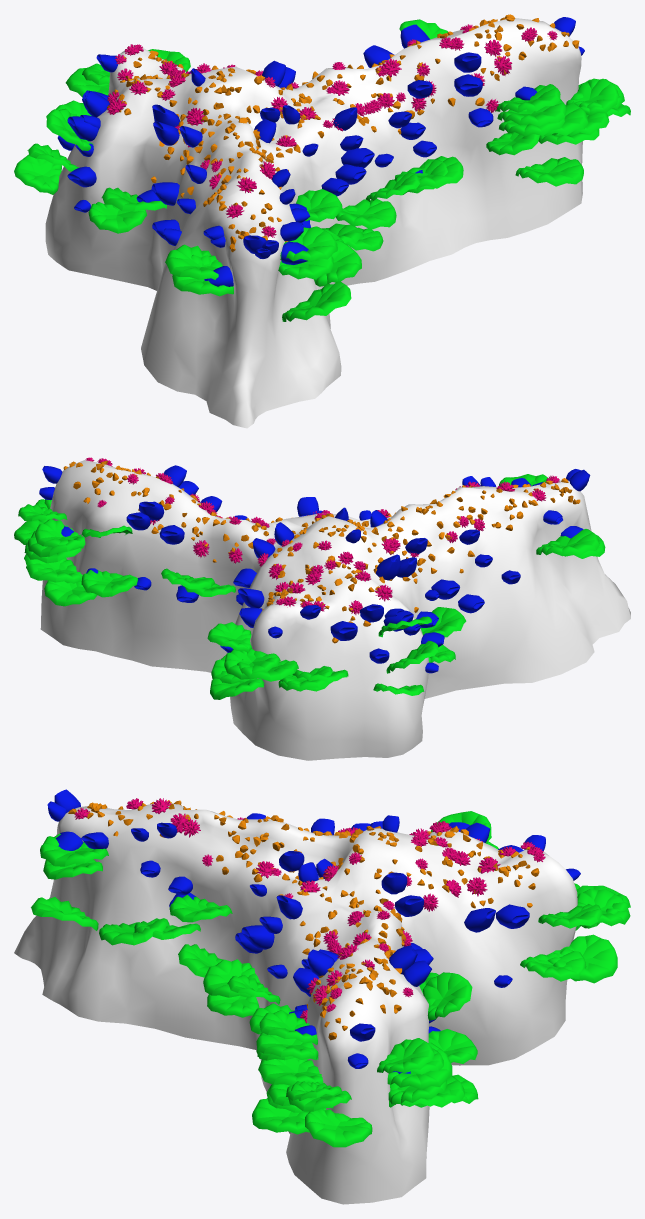
File: Rif-1 (3).fbx
The picture shows the model from 3 angles, top to bottom: view 1: azimuth 30°, elevation 25°; view 2: azimuth 150°, elevation 25°; view 3: azimuth 270°, elevation 25°; orthographic projection. The views are drawn at different scales.
Visible parts, largest first — view 1: Star.001, Star.001|Corall_Plate_2|Dupli|23.1, Star.001|Corall_Plate_2|Dupli|14.1, Star.001|Corall_Plate_2|Dupli|5.1, Star.001|Corall_Plate_2|Dupli|29.1, Star.001|Corall_Plate_2|Dupli|27.1, Star.001|Corall_Plate_2|Dupli|48.1, Star.001|Corall_Plate_2|Dupli|41.1, Star.001|Corall_Plate_2|Dupli|1.1, Star.001|Corall_Plate_2|Dupli|3.1, Star.001|Corall_Plate_2|Dupli|21.1, Star.001|Corall_Plate_2|Dupli|17.1 (+12 smaller); view 2: Star.001, Star.001|Corall_Plate_2|Dupli|49.1, Star.001|Corall_Plate_2|Dupli|36.1, Star.001|Corall_Plate_2|Dupli|5.1, Star.001|Corall_Plate_2|Dupli|7.1, Star.001|Corall_Plate_2|Dupli|46.1, Star.001|Corall_Plate_2|Dupli|25.1, Star.001|Corall_Plate_2|Dupli|8.1, Star.001|Corall_Plate_2|Dupli|2.1, Star.001|Corall_Plate_2|Dupli|40.1, Star.001|Corall_Plate_2|Dupli|35.1, Star.001|Corall_Plate_2|Dupli|10.1 (+7 smaller); view 3: Star.001, Star.001|Corall_Plate_2|Dupli|30.1, Star.001|Corall_Plate_2|Dupli|40.1, Star.001|Corall_Plate_2|Dupli|11.1, Star.001|Corall_Plate_2|Dupli|44.1, Star.001|Corall_Plate_2|Dupli|32.1, Star.001|Corall_Plate_2|Dupli|26.1, Star.001|Corall_Plate_2|Dupli|14.1, Star.001|Corall_Plate_2|Dupli|29.1, Star.001|Corall_Plate_2|Dupli|41.1, Star.001|Corall_Plate_2|Dupli|20.1, Star.001|Corall_Plate_2|Dupli|3.1 (+18 smaller).
Boxes of the visible parts, <box> form: Star.001: <box>45,18,582,428</box>; Star.001|Corall_Plate_2|Dupli|23.1: <box>282,281,351,321</box>; Star.001|Corall_Plate_2|Dupli|14.1: <box>515,157,583,186</box>; Star.001|Corall_Plate_2|Dupli|5.1: <box>165,244,222,279</box>; Star.001|Corall_Plate_2|Dupli|29.1: <box>336,198,396,229</box>; Star.001|Corall_Plate_2|Dupli|27.1: <box>14,154,61,194</box>; Star.001|Corall_Plate_2|Dupli|48.1: <box>88,202,146,233</box>; Star.001|Corall_Plate_2|Dupli|41.1: <box>280,226,337,261</box>; Star.001|Corall_Plate_2|Dupli|1.1: <box>566,78,619,115</box>; Star.001|Corall_Plate_2|Dupli|3.1: <box>296,189,342,222</box>; Star.001|Corall_Plate_2|Dupli|21.1: <box>314,240,361,286</box>; Star.001|Corall_Plate_2|Dupli|17.1: <box>395,156,463,188</box>; Star.001: <box>40,460,630,760</box>; Star.001|Corall_Plate_2|Dupli|49.1: <box>81,570,137,597</box>; Star.001|Corall_Plate_2|Dupli|36.1: <box>224,649,280,679</box>; Star.001|Corall_Plate_2|Dupli|5.1: <box>536,529,599,556</box>; Star.001|Corall_Plate_2|Dupli|7.1: <box>44,580,97,606</box>; Star.001|Corall_Plate_2|Dupli|46.1: <box>26,558,82,583</box>; Star.001|Corall_Plate_2|Dupli|25.1: <box>207,622,251,652</box>; Star.001|Corall_Plate_2|Dupli|8.1: <box>35,519,83,549</box>; Star.001|Corall_Plate_2|Dupli|2.1: <box>420,607,466,637</box>; Star.001|Corall_Plate_2|Dupli|40.1: <box>210,671,264,699</box>; Star.001|Corall_Plate_2|Dupli|35.1: <box>237,659,298,681</box>; Star.001|Corall_Plate_2|Dupli|10.1: <box>27,530,85,557</box>; Star.001: <box>14,803,577,1204</box>; Star.001|Corall_Plate_2|Dupli|30.1: <box>305,1109,372,1147</box>; Star.001|Corall_Plate_2|Dupli|40.1: <box>547,934,617,983</box>; Star.001|Corall_Plate_2|Dupli|11.1: <box>423,972,472,1020</box>; Star.001|Corall_Plate_2|Dupli|44.1: <box>258,1058,323,1085</box>; Star.001|Corall_Plate_2|Dupli|32.1: <box>377,1038,434,1073</box>; Star.001|Corall_Plate_2|Dupli|26.1: <box>520,947,586,981</box>; Star.001|Corall_Plate_2|Dupli|14.1: <box>252,1098,309,1134</box>; Star.001|Corall_Plate_2|Dupli|29.1: <box>203,959,260,997</box>; Star.001|Corall_Plate_2|Dupli|41.1: <box>40,833,108,866</box>; Star.001|Corall_Plate_2|Dupli|20.1: <box>259,1010,317,1044</box>; Star.001|Corall_Plate_2|Dupli|3.1: <box>169,894,232,922</box>.
Bounding box in the file's own units: 8239 × 2762 × 7601.
